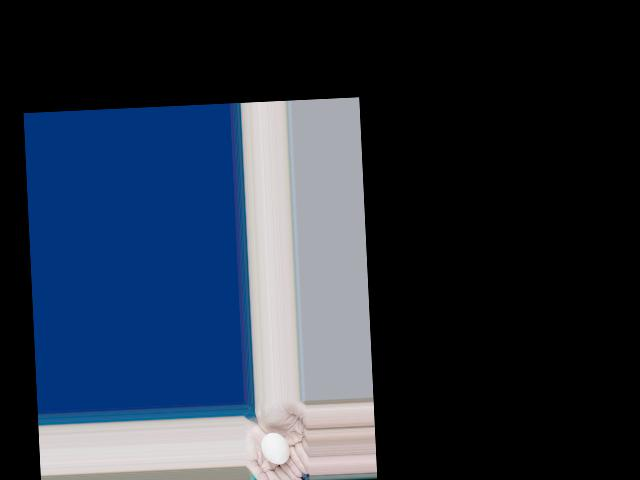egg: (261, 432, 290, 465)
